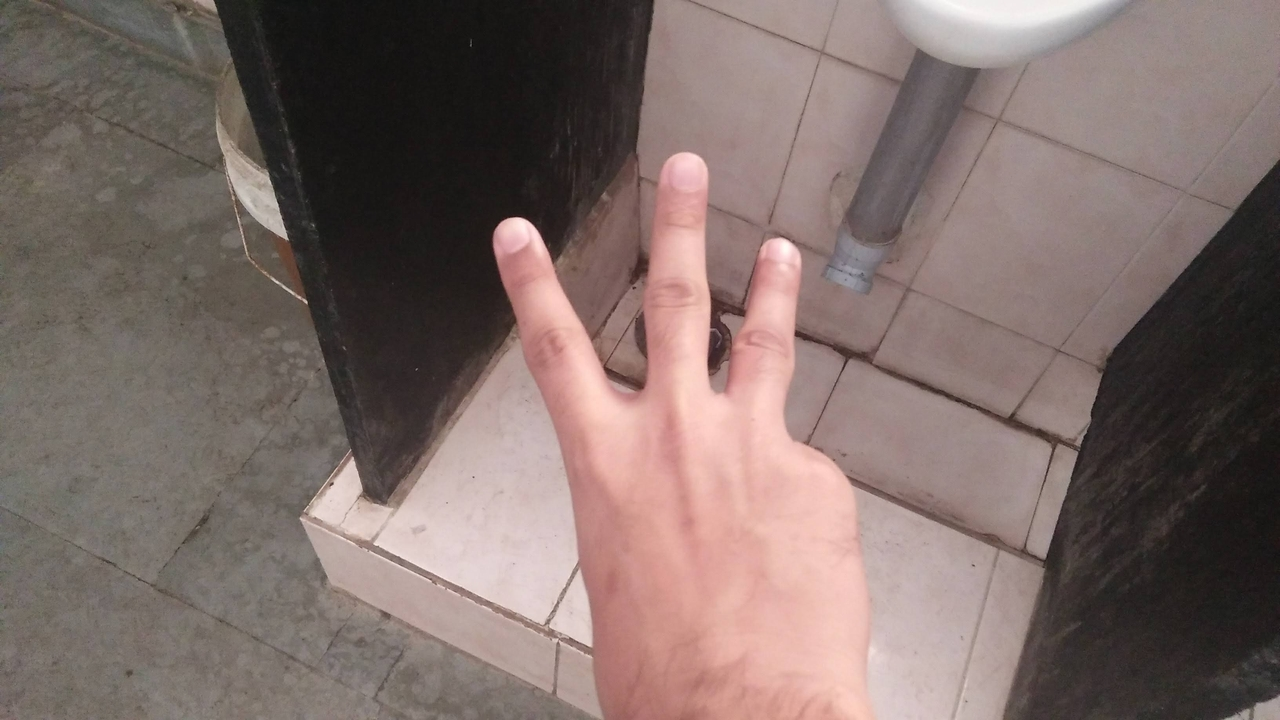fingertip: (652, 144, 716, 206), (484, 210, 546, 270), (748, 230, 808, 288)
